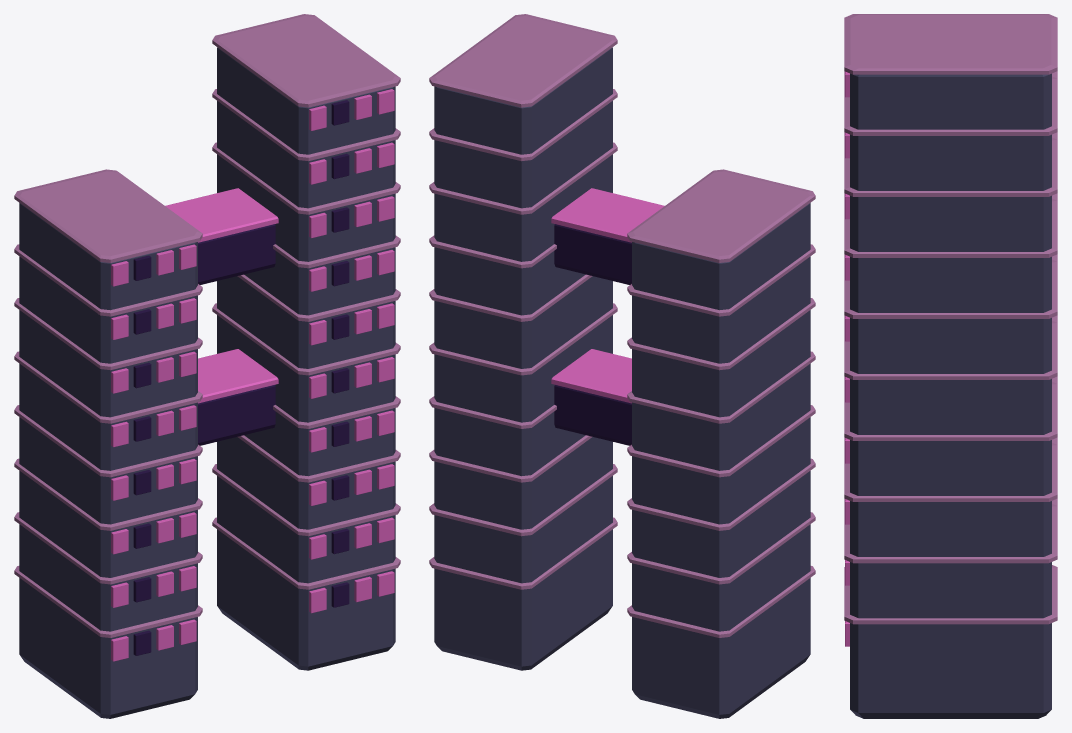
The model's file is vespera_sky_exchange.glb.
3 renders of one model, left to right at view 1: azimuth 30°, elevation 25°; view 2: azimuth 150°, elevation 25°; view 3: azimuth 270°, elevation 25°, orthographic. The views are drawn at different scales.
Parts seen in each view (by area): view 1: vespera_sky_exchange; view 2: vespera_sky_exchange; view 3: vespera_sky_exchange.
Boxes of the visible parts, box(x1,y1,x2,y2) form: vespera_sky_exchange: box(14, 14, 400, 718); vespera_sky_exchange: box(429, 14, 815, 718); vespera_sky_exchange: box(844, 14, 1057, 718).
Bounding box in the file's own units: 17.6 × 32.04 × 9.5.
